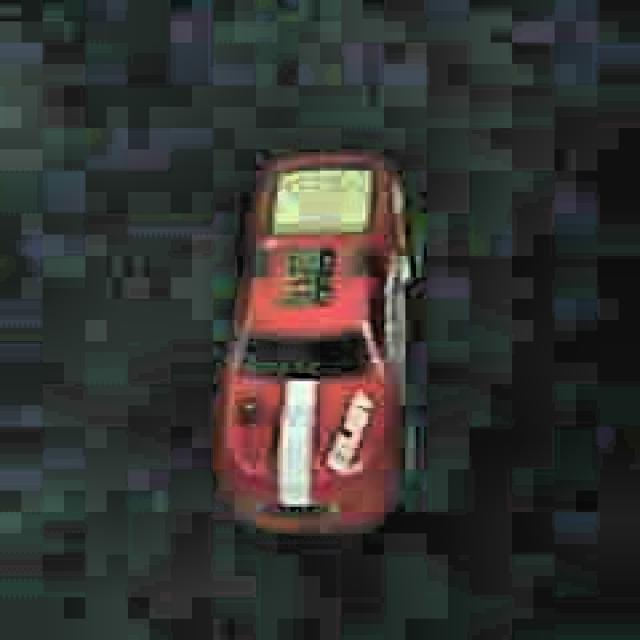car: (209, 145, 430, 540)
